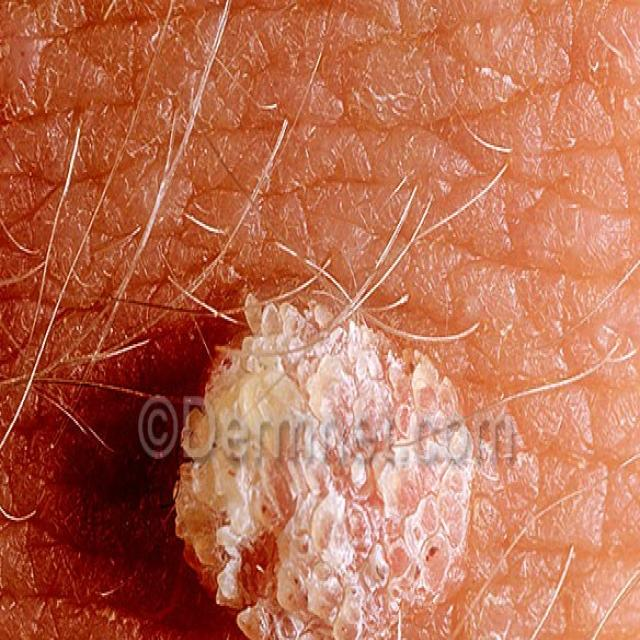Warts: (159, 267, 488, 640)
